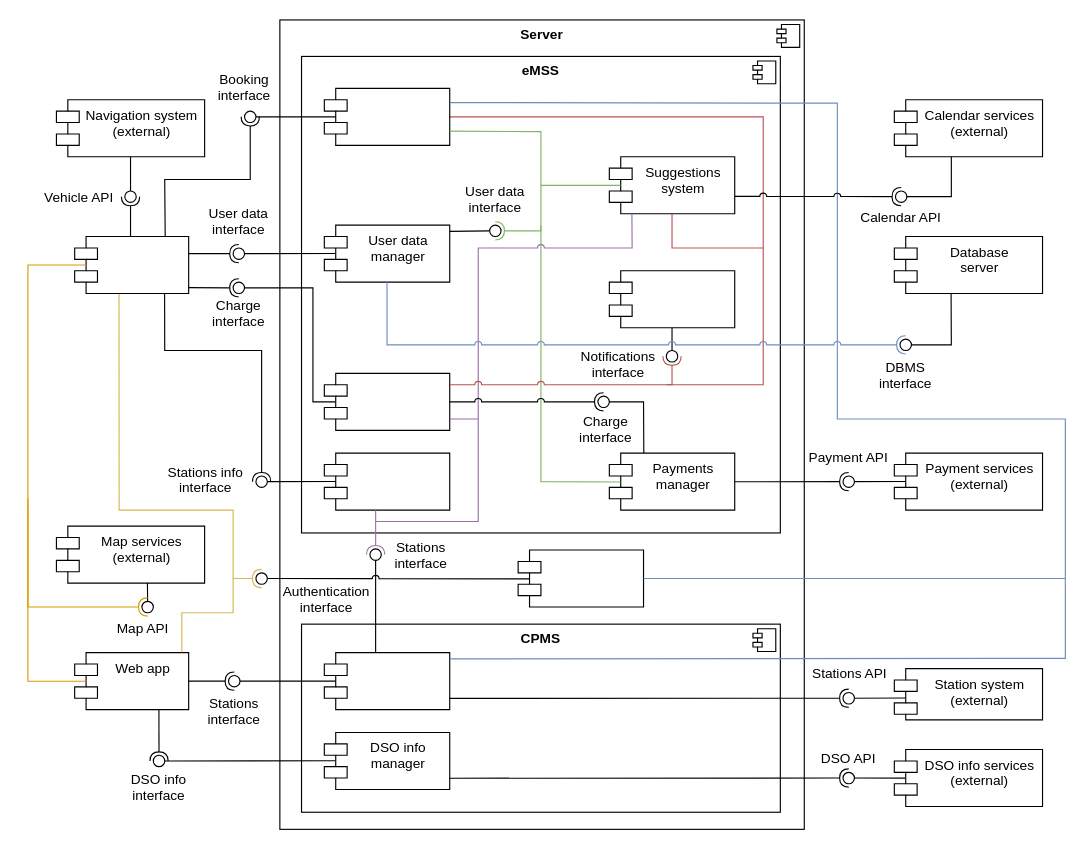
Some shapes in this 1086 by 858 pixel diagram are drawn without their labels. The centre of each missing label's shape, as x and y in pixels:
Authentication manager: point 580,578
Booking system: point 386,116
Charge manager: point 386,401
Mobile app: point 131,264
Notifications system: point 671,299
Stations info manager: point 386,481
Stations manager: point 386,681
